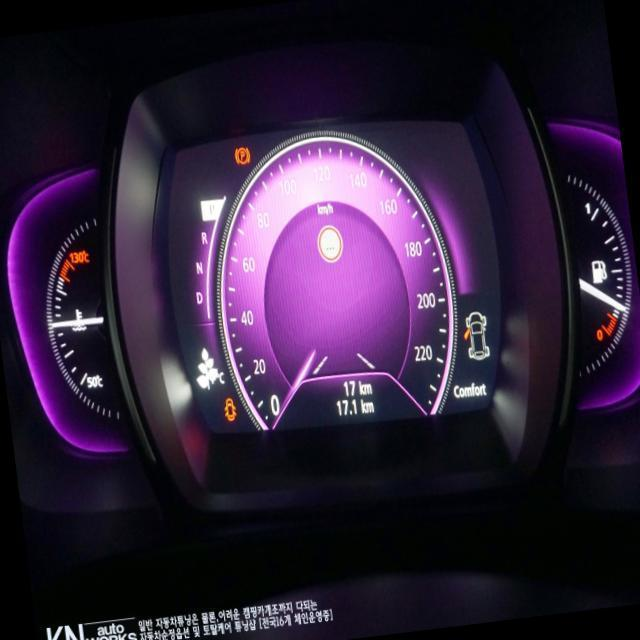Doors: (221, 396, 236, 422)
